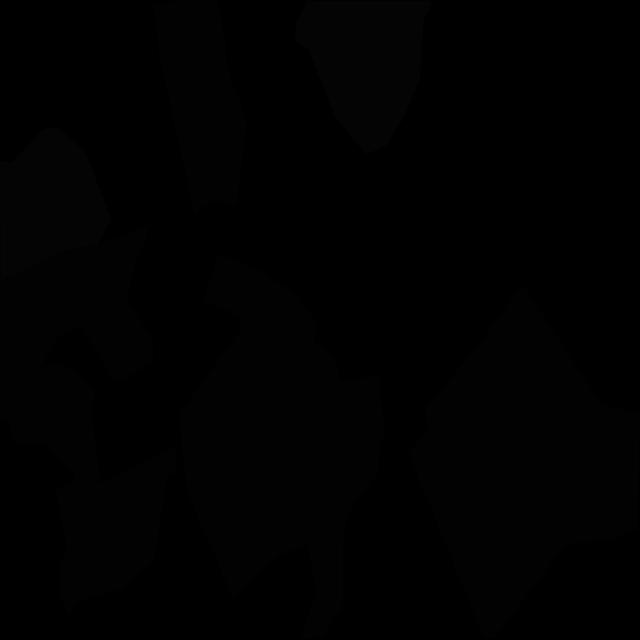cardboard: (408, 284, 640, 639), (179, 254, 384, 639), (0, 224, 154, 444), (48, 411, 176, 618), (154, 0, 247, 214)
soft_plastic: (295, 0, 431, 154), (0, 127, 112, 281)
